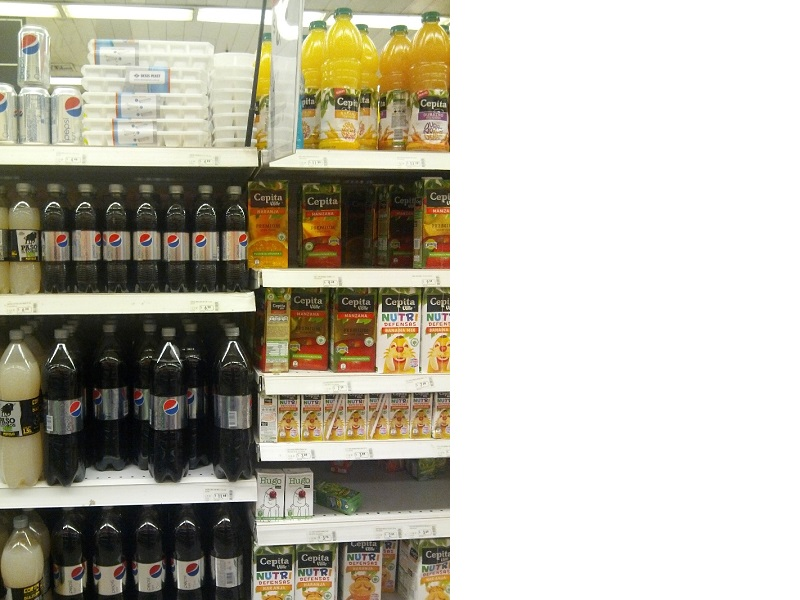lemonade: (140, 326, 199, 490), (36, 327, 94, 490), (206, 324, 263, 483), (68, 179, 111, 300), (36, 179, 77, 302), (4, 178, 45, 300), (187, 180, 228, 297), (128, 179, 167, 298), (219, 181, 259, 295), (100, 182, 136, 298), (159, 183, 195, 298)
